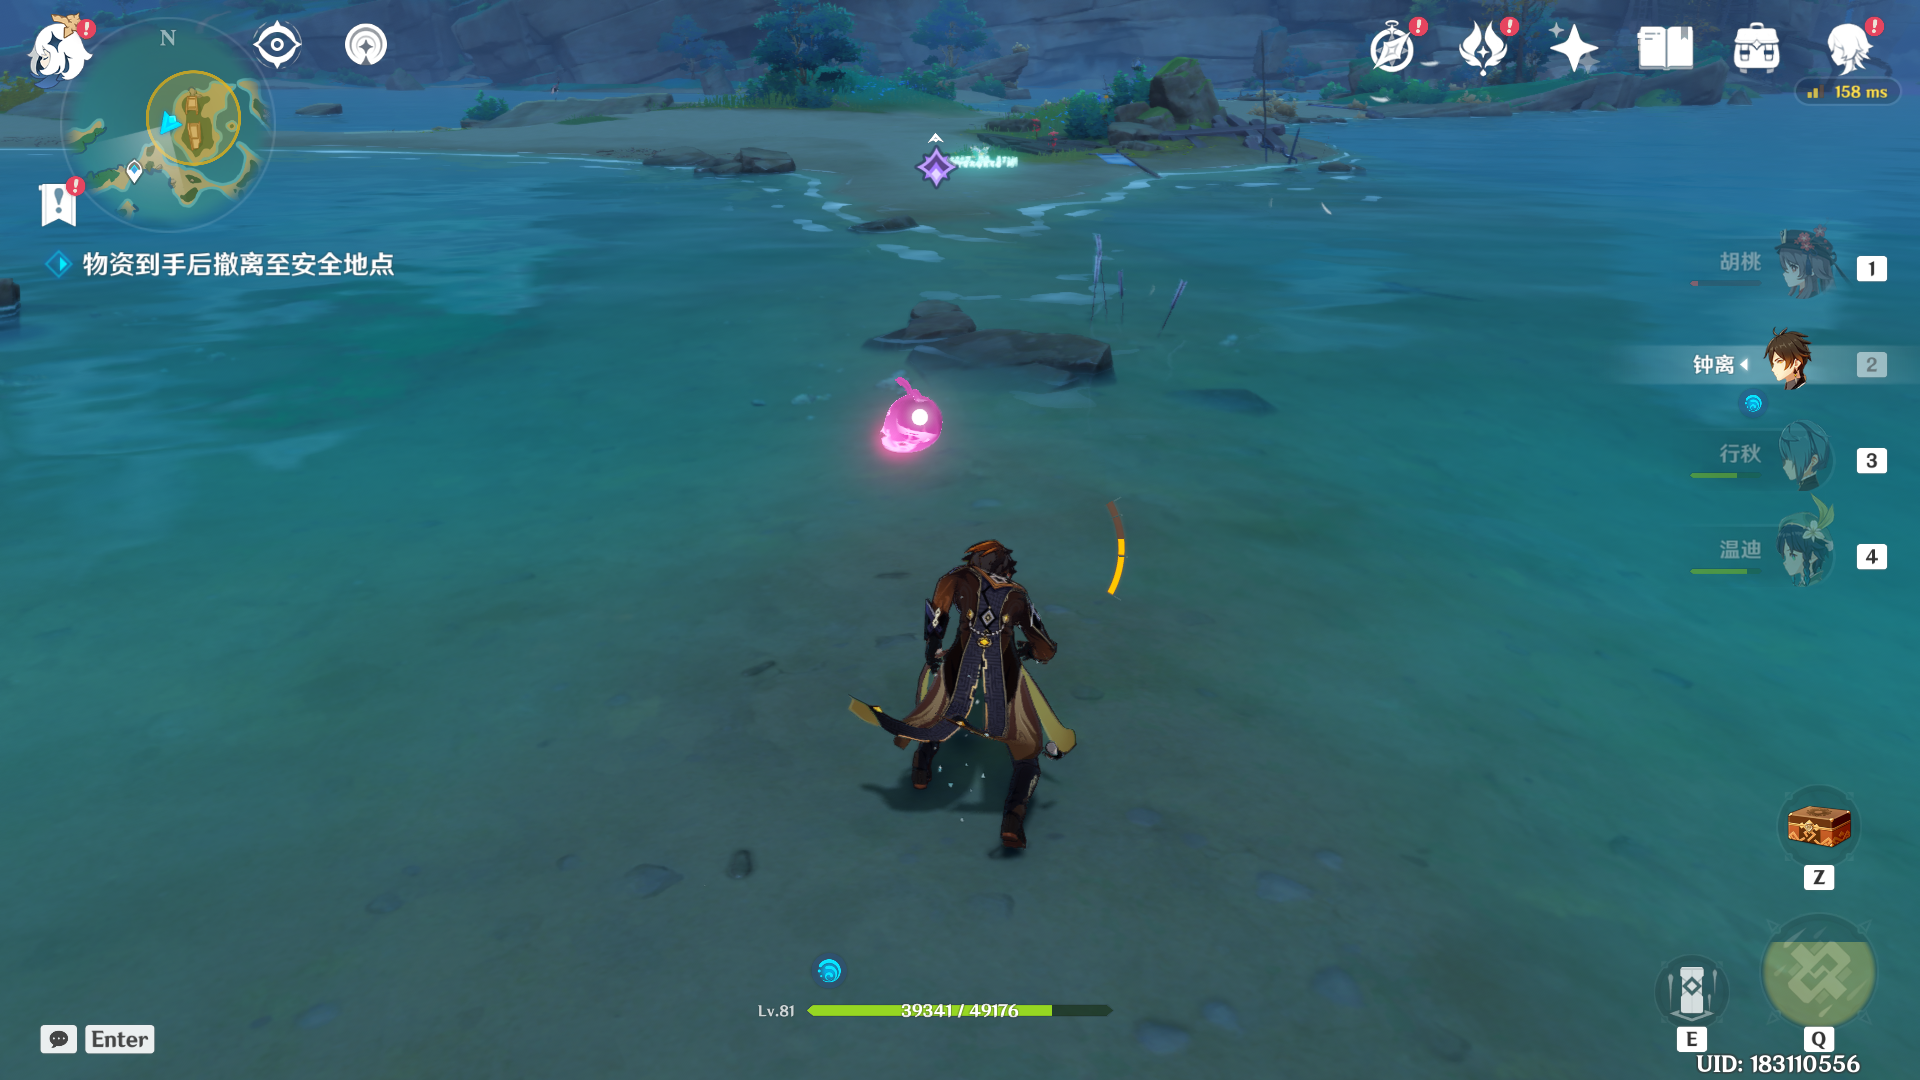character: (832, 492, 1109, 873)
